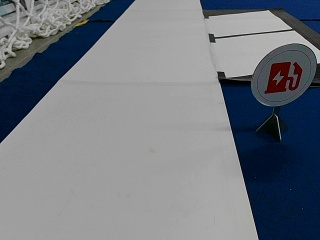battery: (251, 41, 316, 107)
